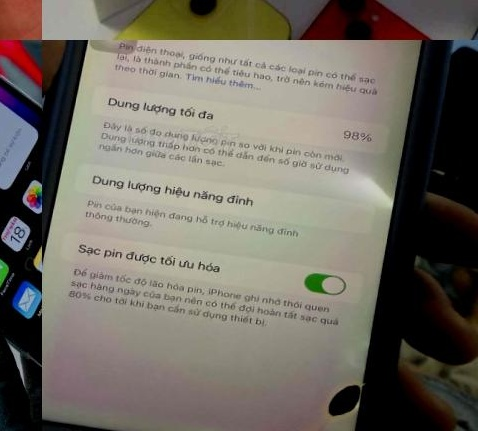physical_damage: (212, 354, 392, 431), (0, 199, 42, 243)
screen_defect: (313, 379, 378, 426), (249, 421, 315, 431)
